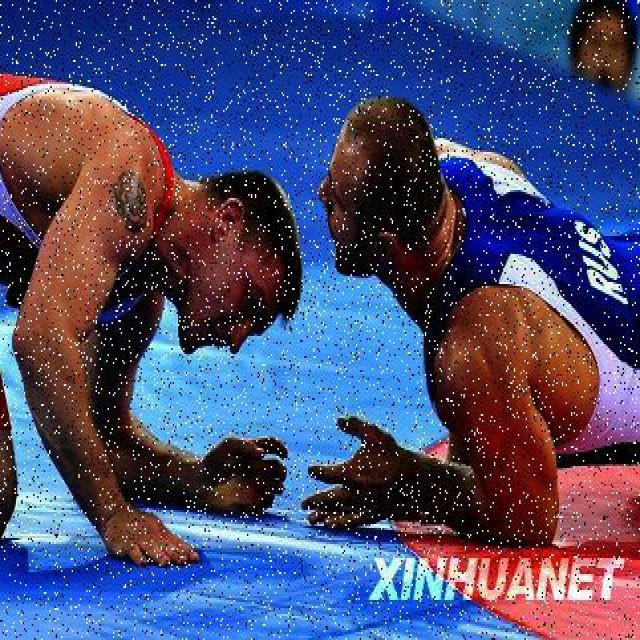fall: (328, 112, 639, 548)
